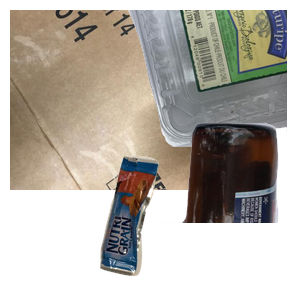cardboard: (10, 10, 250, 190)
glass: (87, 120, 300, 300)
plastic: (60, 10, 300, 149)
trash: (97, 152, 248, 300)
